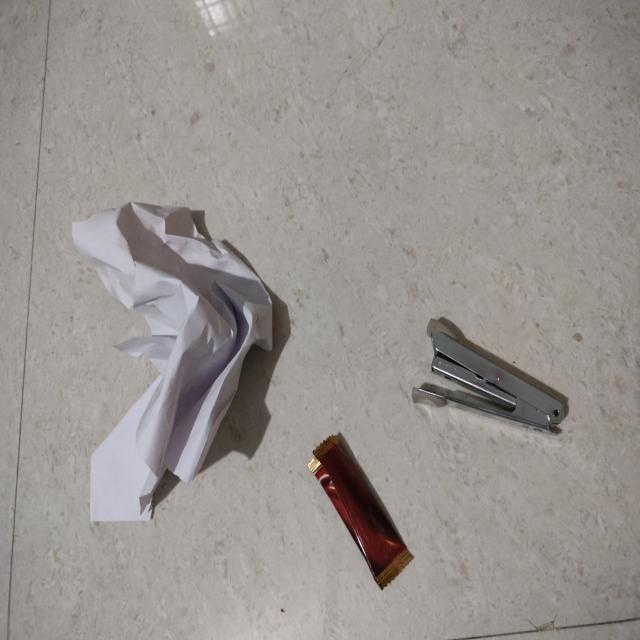metal: (407, 320, 583, 438)
paper: (65, 189, 288, 516)
plastic: (332, 435, 413, 590), (309, 440, 352, 537)
